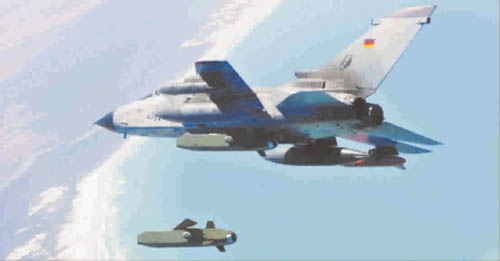airplane: (89, 1, 444, 168)
